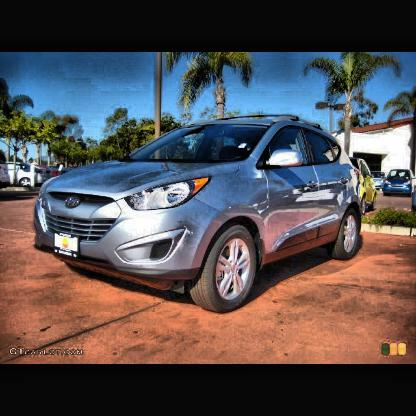Hyundai Tucson SUV 2012: (35, 116, 362, 314)
